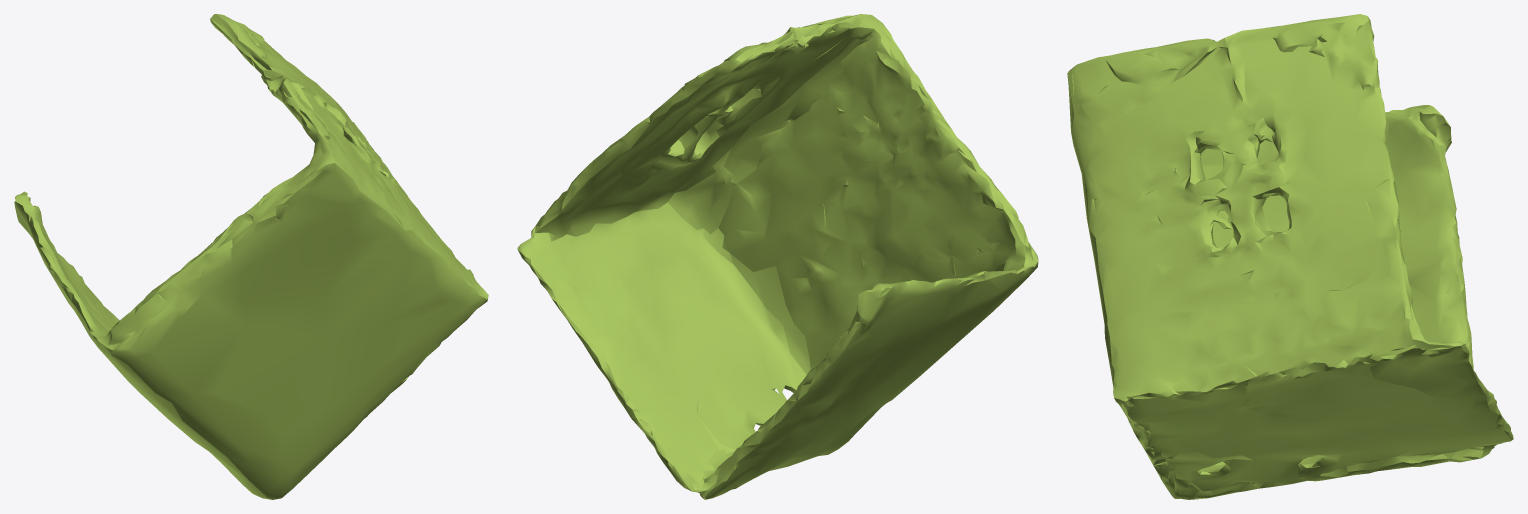
Rendered from room.fbx.
The picture shows the model from 3 angles, left to right: view 1: azimuth 30°, elevation 25°; view 2: azimuth 150°, elevation 25°; view 3: azimuth 270°, elevation 25°; orthographic projection. The views are drawn at different scales.
Visible parts, largest first — view 1: Polygon; view 2: Polygon; view 3: Polygon.
Part boxes in pixels (box(x1,y1,x2,y2)): Polygon: box(14, 14, 488, 499); Polygon: box(517, 14, 1038, 499); Polygon: box(1067, 14, 1513, 499).
Bounding box in the file's own units: 0.6073 × 0.6468 × 0.5257.
